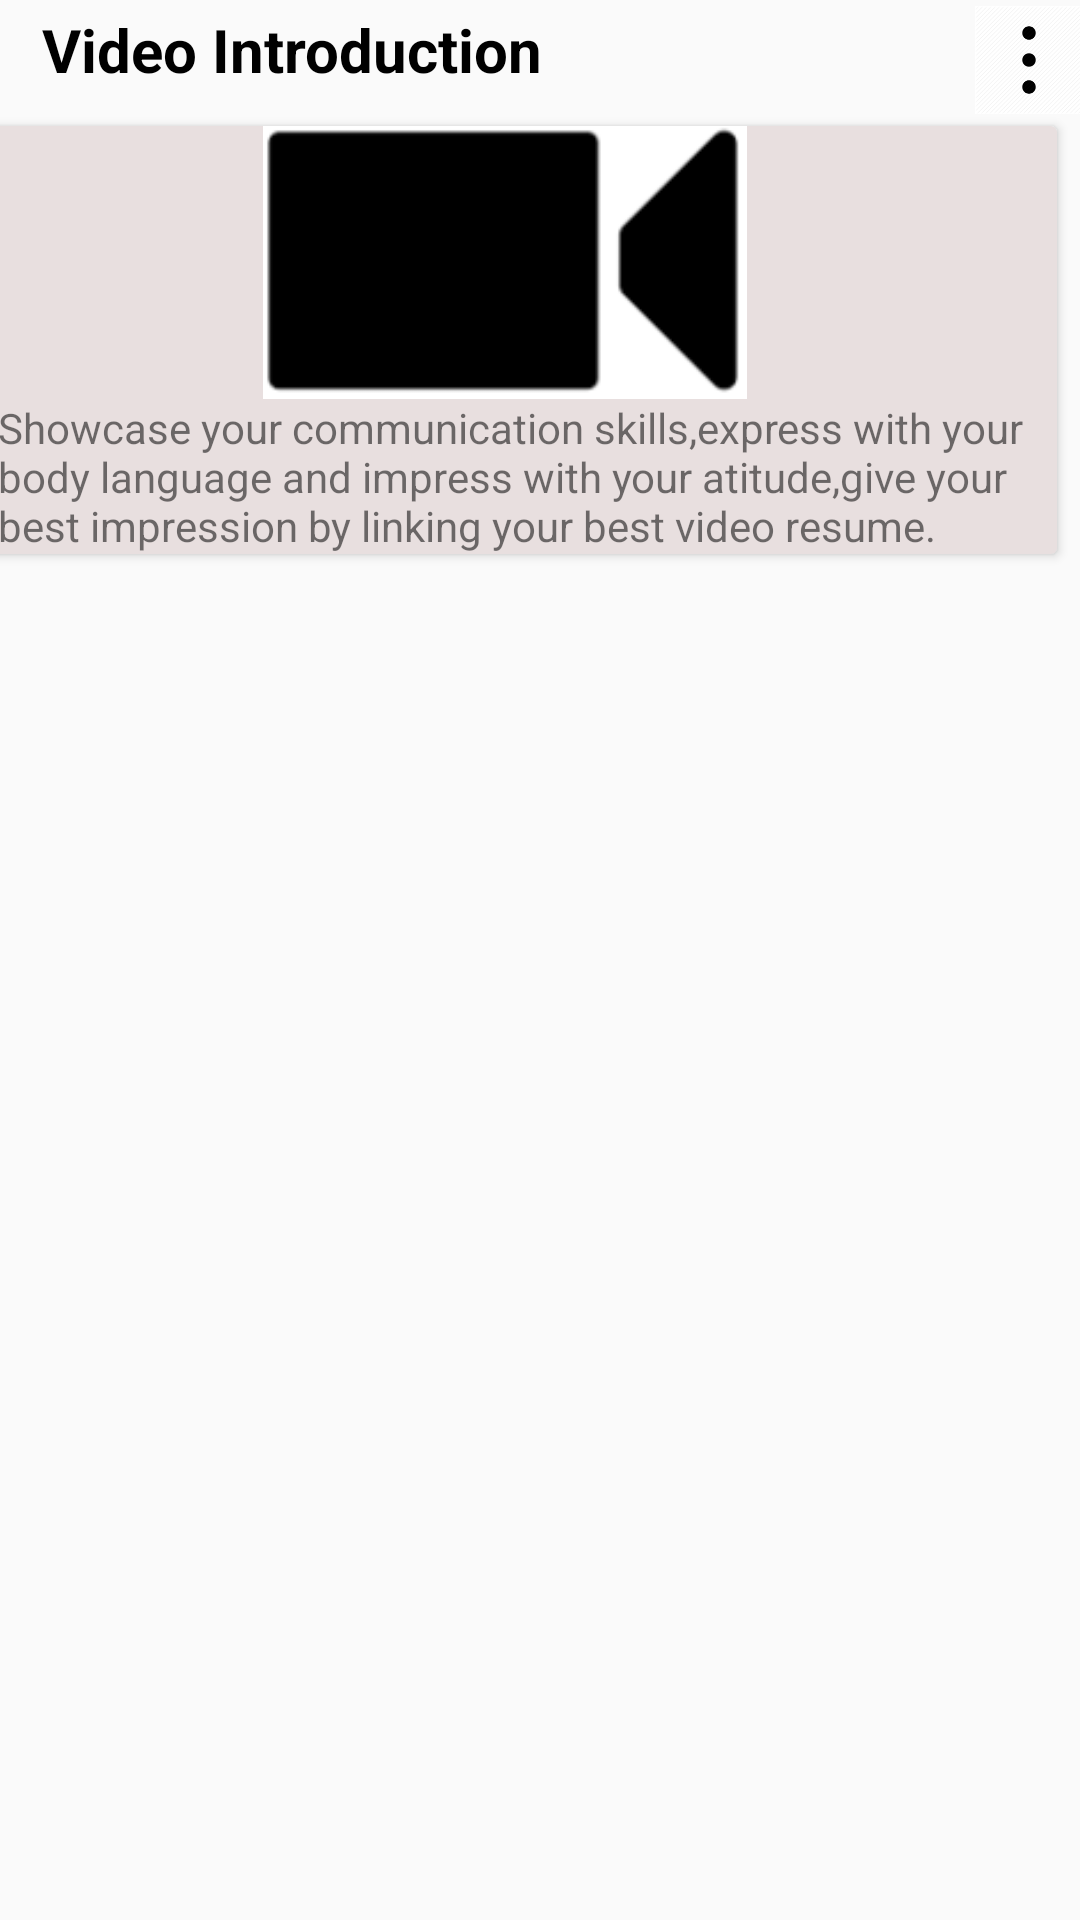

Screen size 1080w x 1920h. Icon name, then its center in pixels as point (x, y):
overflow: point (1029, 60)
